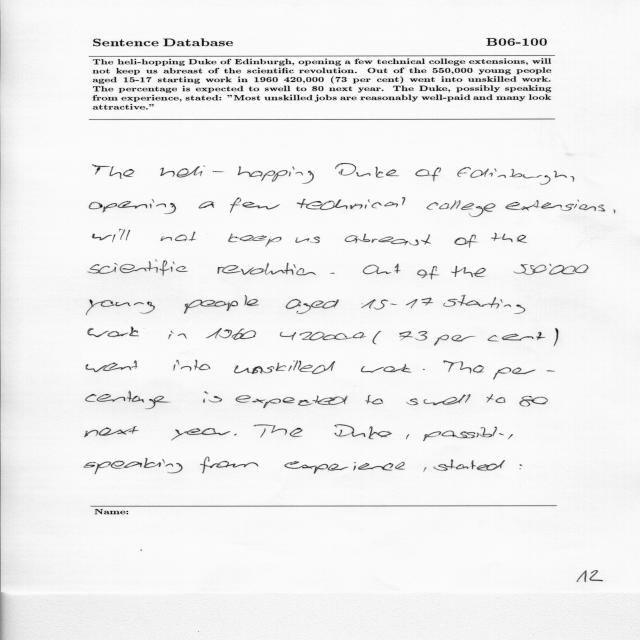word: (160, 166, 314, 184), (457, 167, 567, 185), (232, 329, 366, 341), (88, 260, 188, 276), (284, 461, 405, 474), (84, 458, 182, 474), (443, 295, 525, 314), (86, 391, 169, 409), (236, 395, 348, 408), (184, 295, 259, 314), (234, 360, 335, 374), (297, 197, 405, 210), (89, 199, 176, 214), (217, 263, 316, 276), (423, 427, 513, 441), (505, 200, 605, 212), (427, 200, 496, 217), (86, 300, 155, 315), (345, 234, 431, 246), (200, 457, 258, 474), (335, 163, 399, 178), (361, 298, 433, 310), (433, 459, 505, 471), (514, 264, 589, 275), (335, 425, 392, 439), (286, 299, 339, 314), (171, 428, 230, 441), (230, 198, 280, 213), (493, 368, 555, 380), (407, 394, 471, 405), (229, 234, 282, 247), (254, 425, 303, 438), (93, 164, 135, 179), (86, 361, 138, 373), (85, 426, 139, 437), (443, 360, 484, 374), (93, 229, 130, 243), (488, 332, 545, 341), (88, 327, 139, 337), (434, 335, 474, 346), (174, 360, 211, 371), (361, 364, 411, 372), (451, 266, 486, 277), (363, 264, 401, 274), (415, 168, 441, 182), (160, 231, 196, 241), (491, 233, 527, 243), (455, 234, 479, 248), (519, 396, 548, 406), (418, 266, 440, 279), (206, 328, 232, 339), (400, 331, 428, 341), (203, 391, 222, 403), (365, 395, 383, 405), (486, 394, 506, 403), (295, 237, 320, 244), (168, 330, 187, 339), (373, 331, 382, 344), (199, 202, 214, 209), (554, 328, 559, 347), (571, 176, 575, 182), (423, 467, 427, 472), (406, 434, 409, 439), (520, 465, 523, 470), (614, 210, 616, 214), (234, 434, 237, 436), (330, 273, 335, 274), (423, 369, 425, 370)
